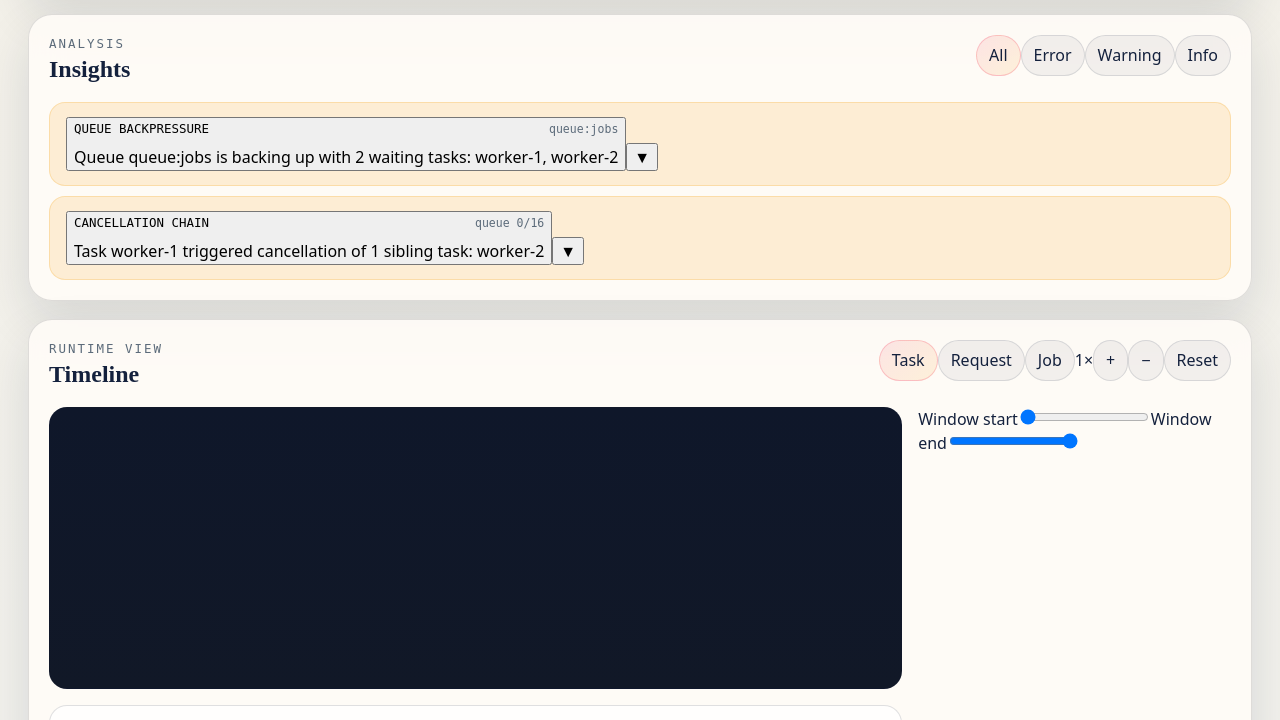
Scenario: App › timeline zoom controls appear and respond to click and reset
(page scrolled)
Expected: the text "1×" is shown, 1075,349 -> 1093,371
// Zoom in → 2×
Click the button named "zoom in": (1111, 360) 1093,340 -> 1128,381
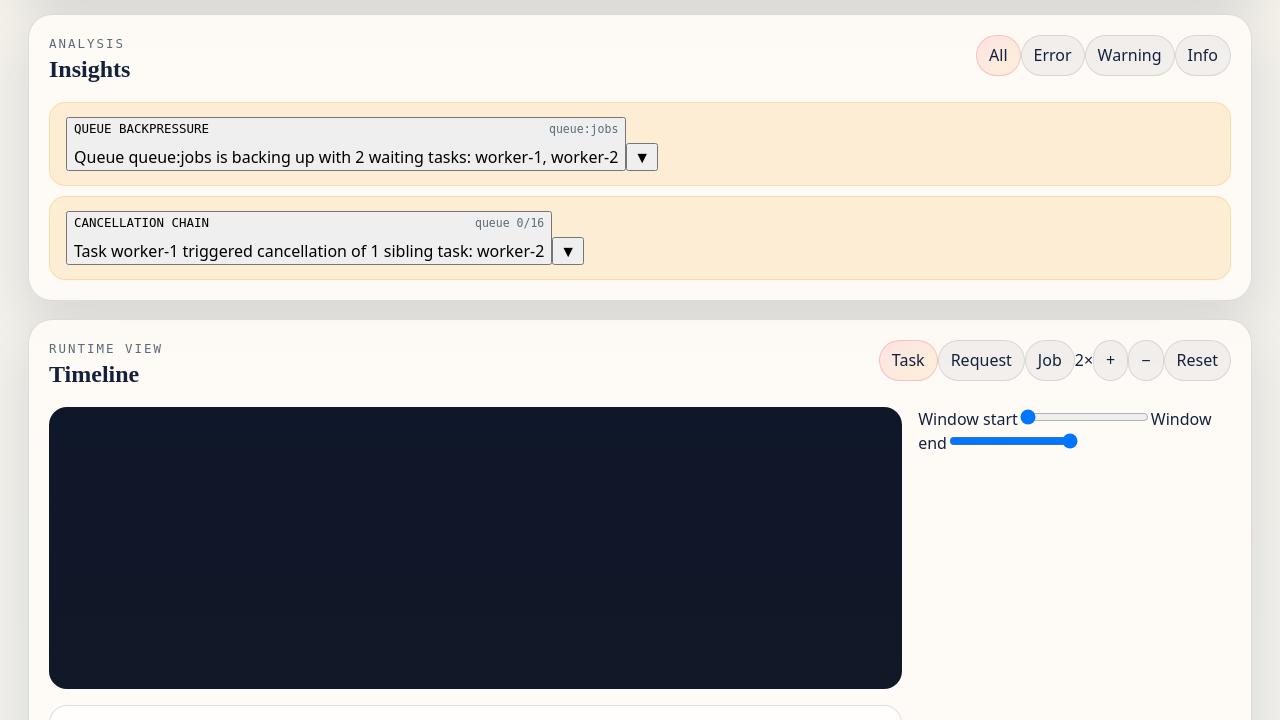
Now the text "2×" is shown, box 1075,349 -> 1093,371
// Zoom out → back to 1×
Click the button named "zoom out": (1146, 360) 1128,340 -> 1164,381
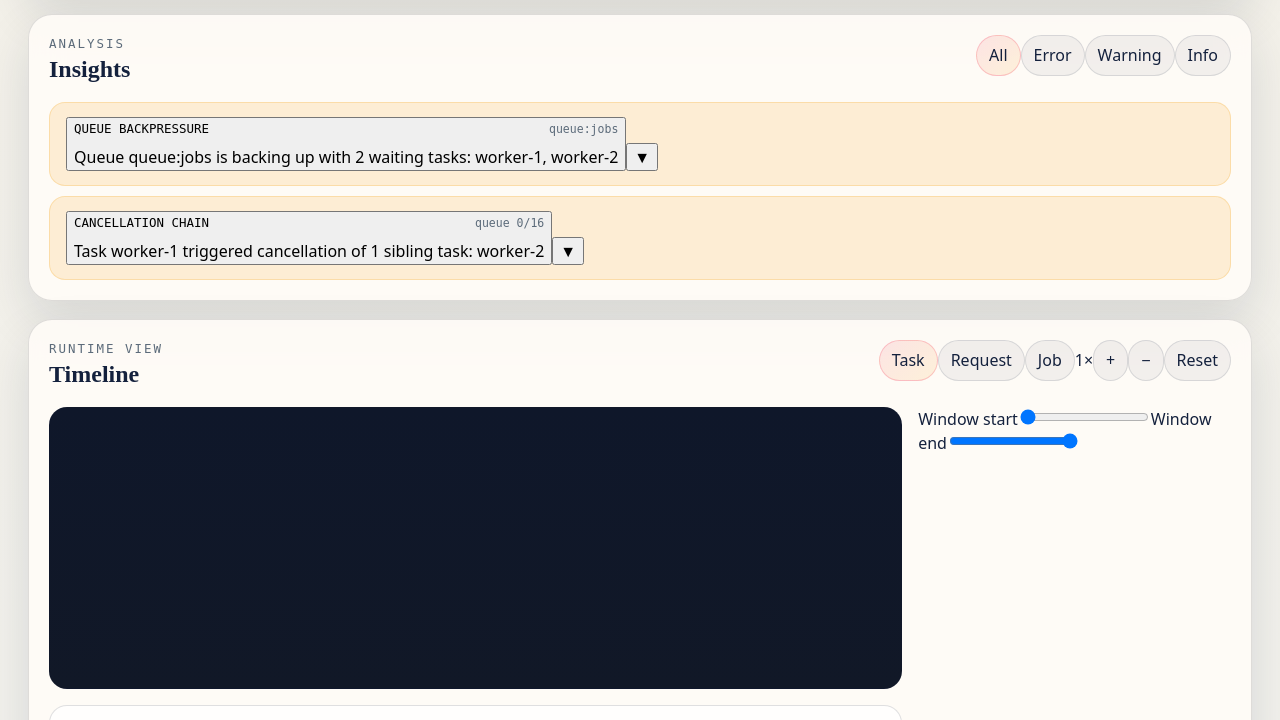
Now the text "1×" is shown, box 1075,349 -> 1093,371
// Zoom in twice → 4×
Click the button named "zoom in": (1111, 360) 1093,340 -> 1128,381
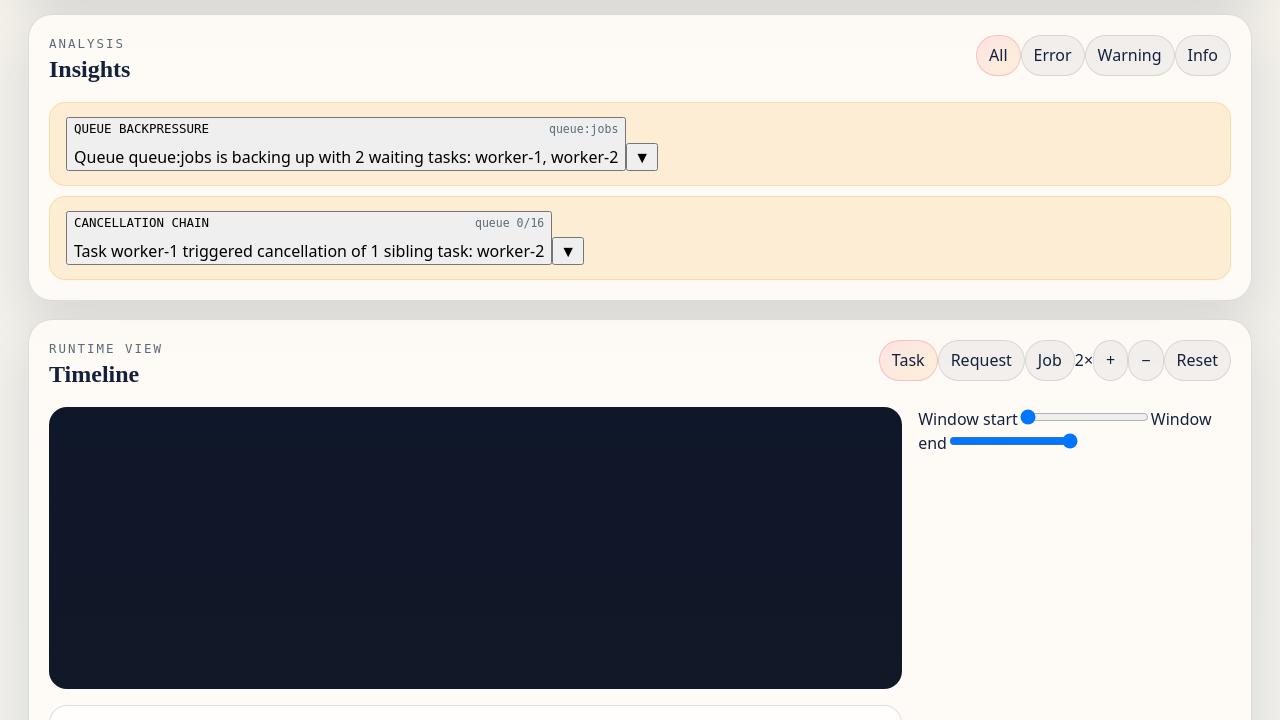
Click the button named "zoom in": (1111, 360) 1093,340 -> 1128,381
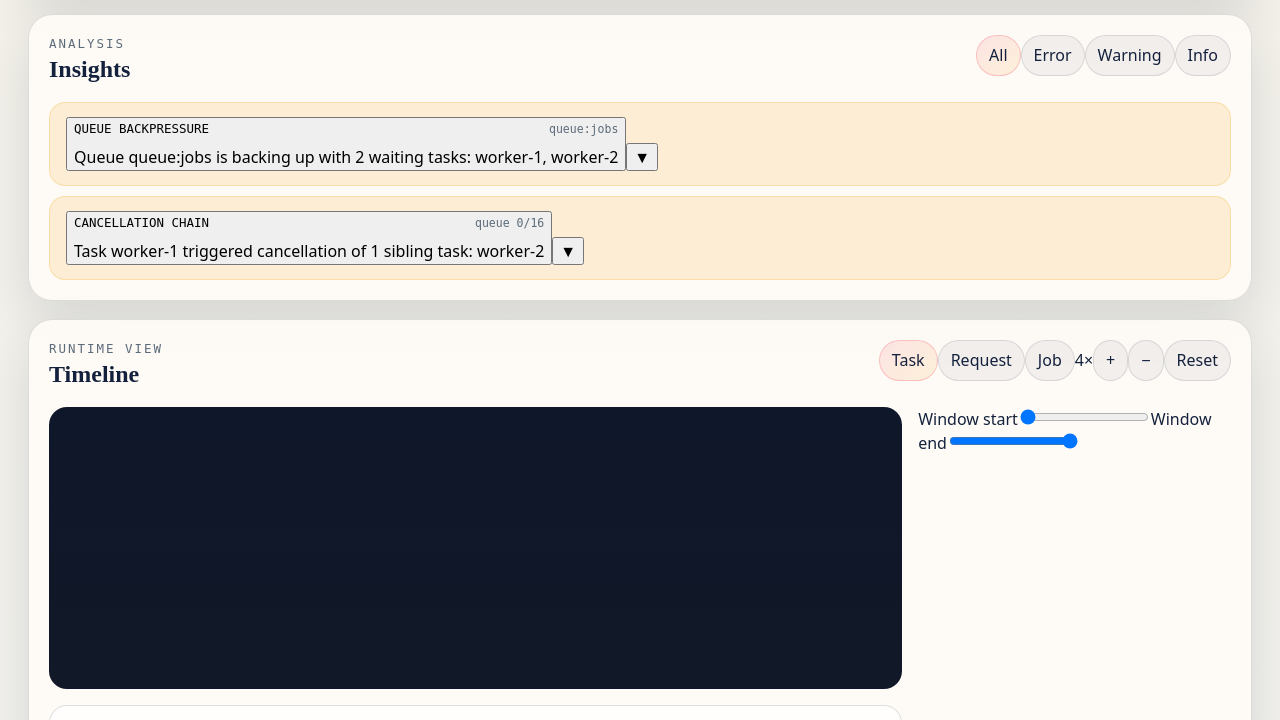
Now the text "4×" is shown, box 1075,349 -> 1093,371
// Reset → 1×
Click the button with aria-label "reset zoom": (1197, 360) 1164,340 -> 1231,381
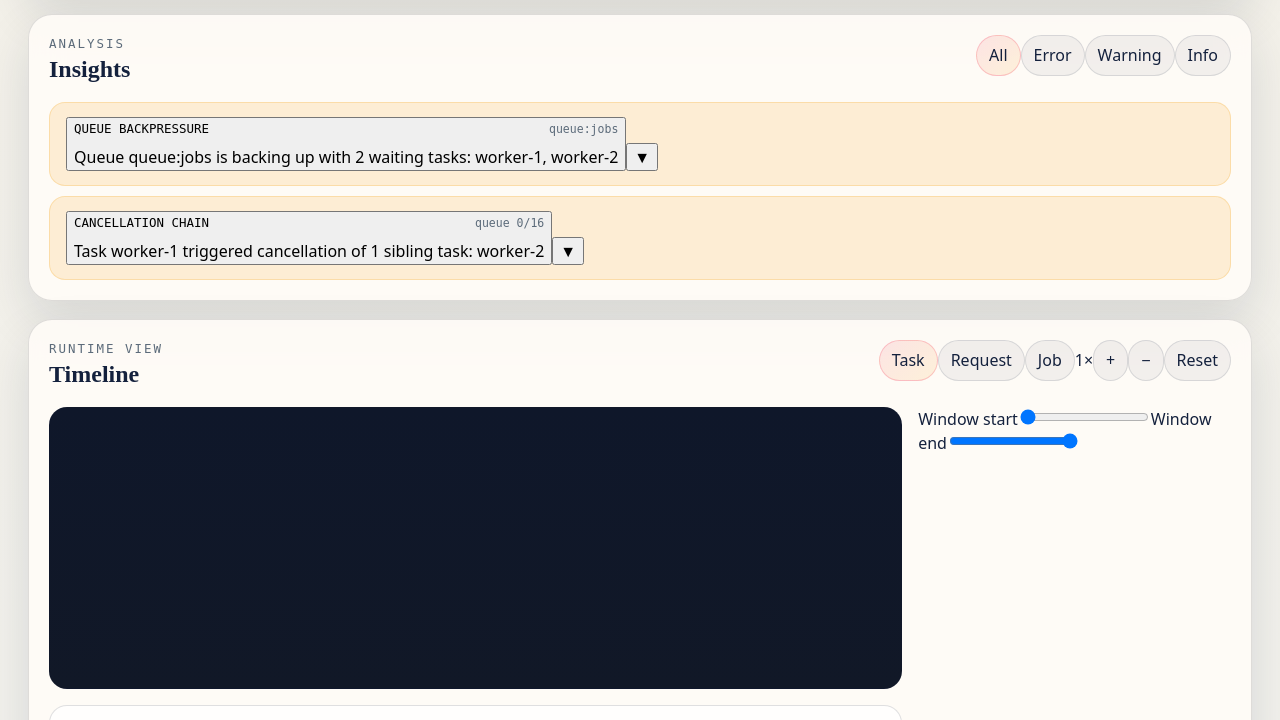
Now the text "1×" is shown, box 1075,349 -> 1093,371
